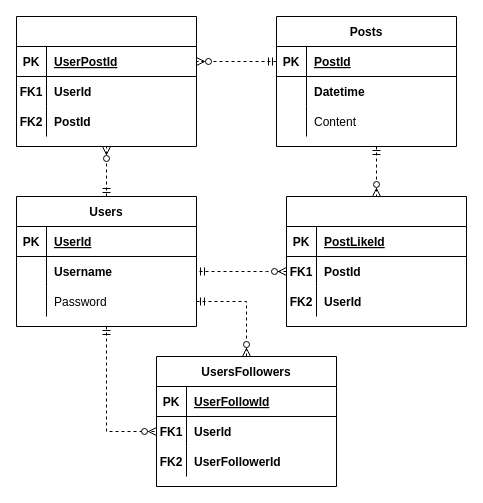
Some shapes in this 483 by 503 pixel diagram are drawn without their labels. Here are the shapes that lost their labels. From the top down, the box of each, then its label:
(16, 16, 196, 146): UsersPosts
(286, 196, 466, 326): PostsLikes
